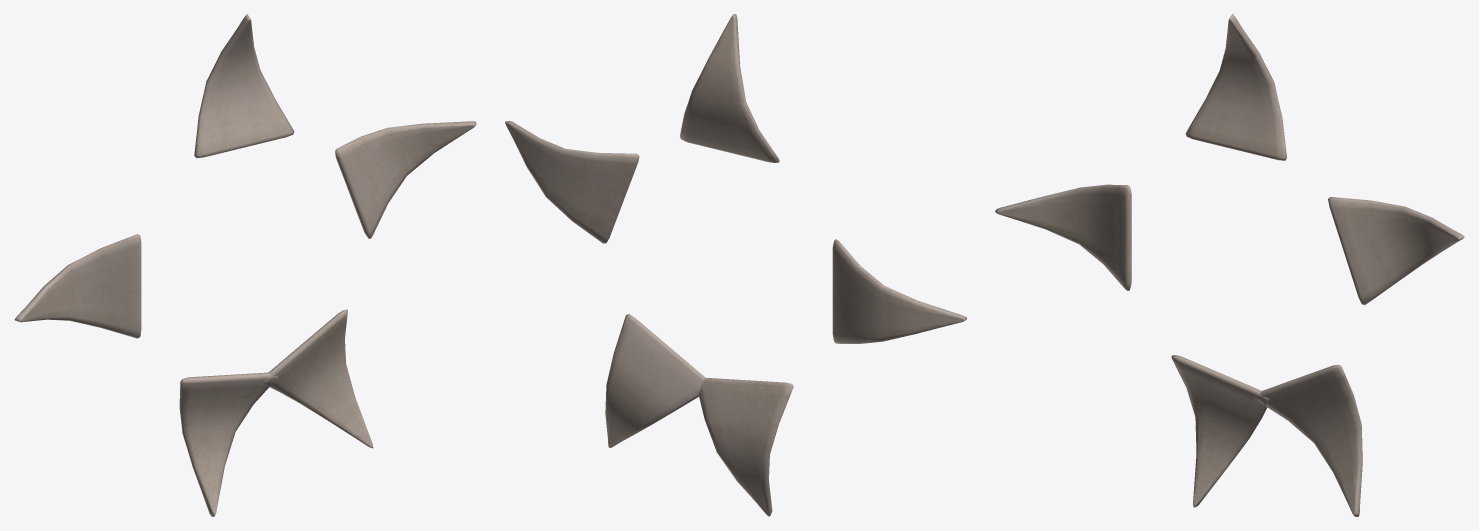
The model's file is PineappleFruitPitLeaf.obj.
3 views of the same model, side by side, from view 1: azimuth 30°, elevation 25°; view 2: azimuth 150°, elevation 25°; view 3: azimuth 330°, elevation 25° (orthographic).
Parts seen in each view (by area): view 1: PineappleFruitPitLeaf; view 2: PineappleFruitPitLeaf; view 3: PineappleFruitPitLeaf.
Boxes of the visible parts, bbox=[...] form: PineappleFruitPitLeaf: bbox=[14, 14, 476, 516]; PineappleFruitPitLeaf: bbox=[505, 14, 966, 516]; PineappleFruitPitLeaf: bbox=[995, 14, 1464, 516].
Size of the model in its own units: 0.0877 by 0.0898 by 0.00625.
1 material, 1 textured.
